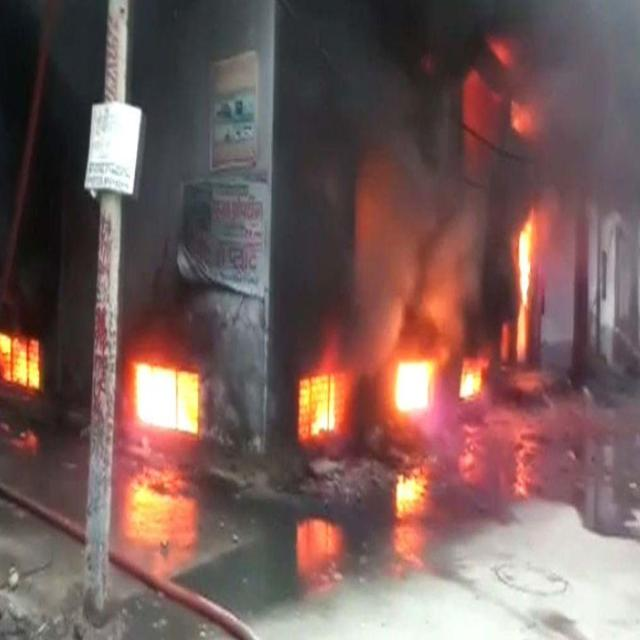Fire: (126, 347, 208, 450), (287, 366, 355, 448), (3, 317, 49, 399), (391, 346, 440, 416), (515, 209, 537, 309), (450, 350, 491, 402)
